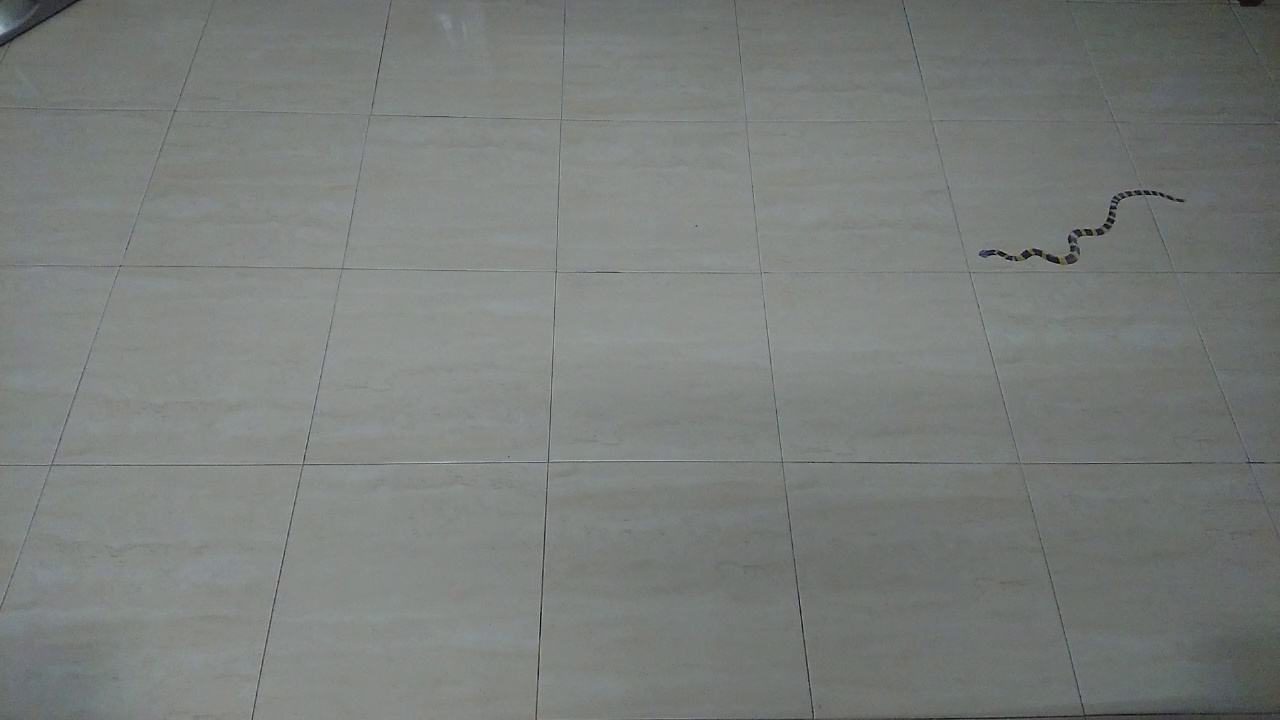snake: (963, 174, 1194, 283)
